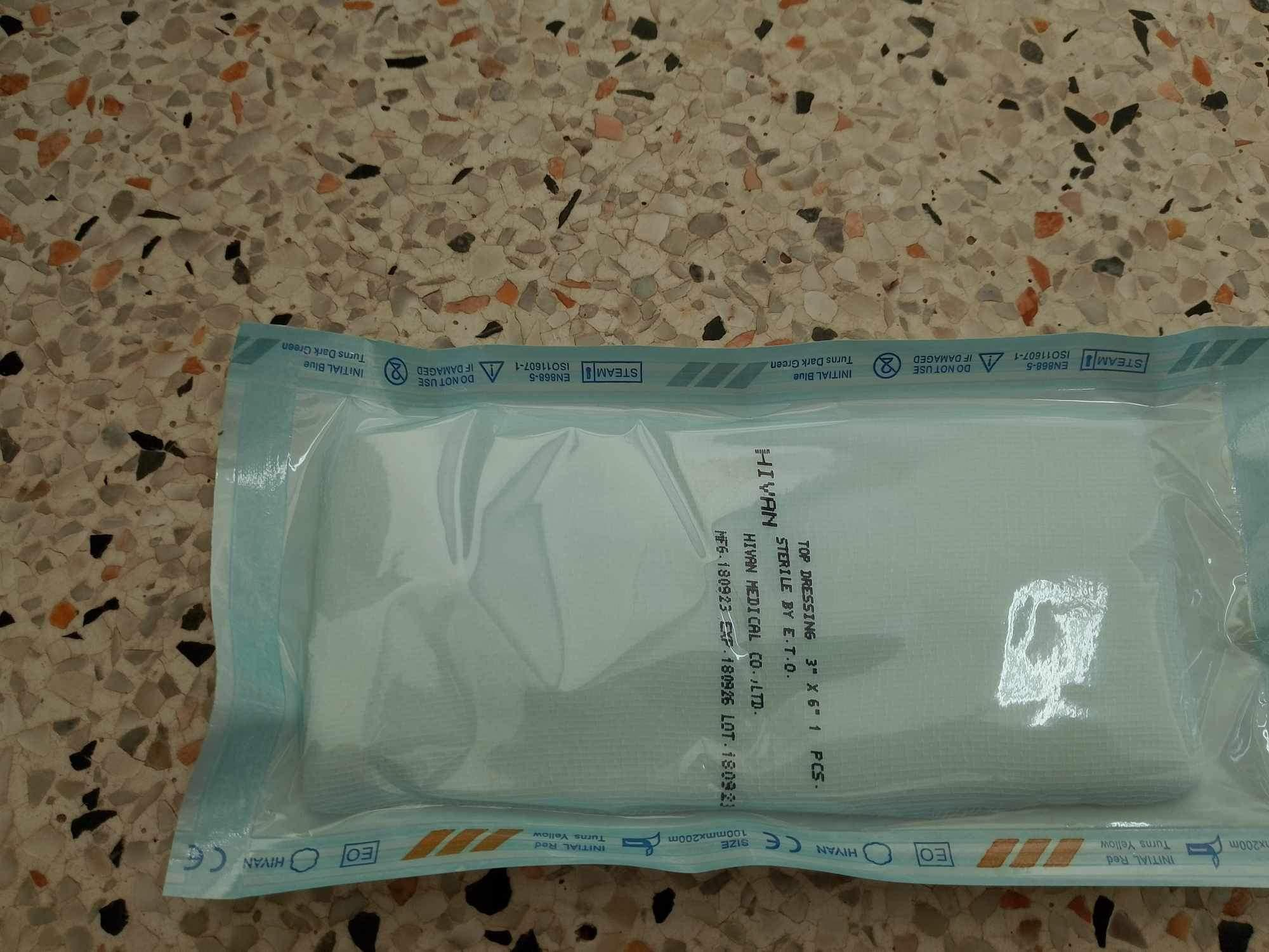Pathological: (161, 317, 1265, 898)
